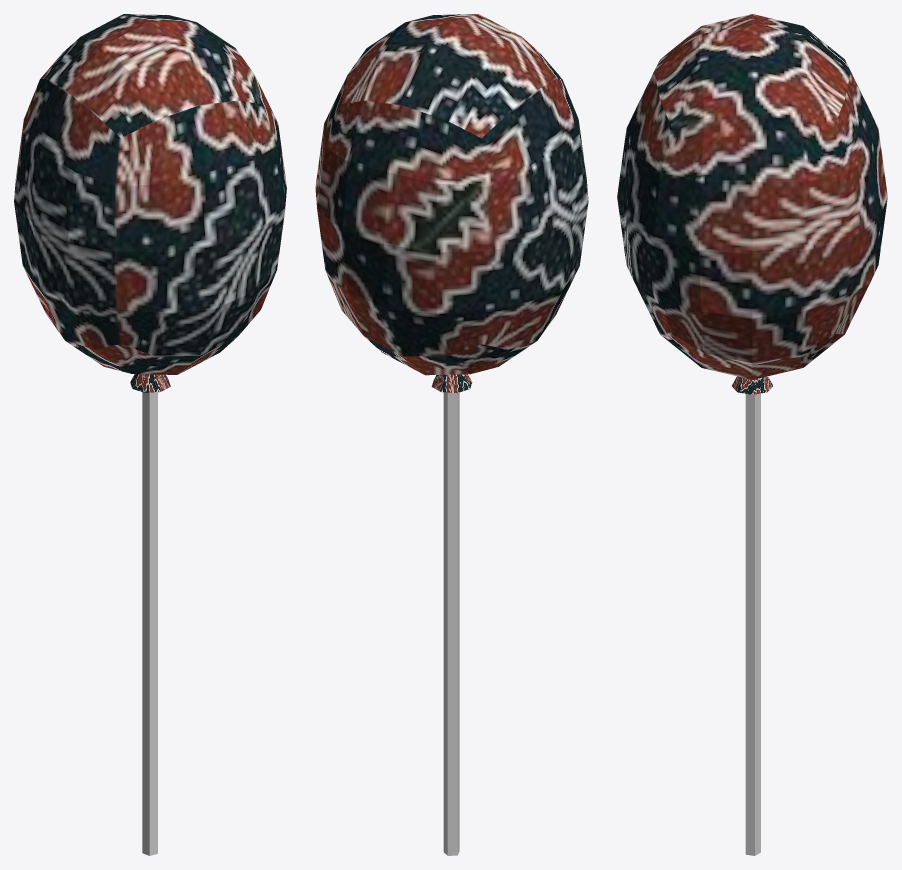
File: Balon Batik Hitam.fbx
3 renders of one model, left to right at view 1: azimuth 30°, elevation 25°; view 2: azimuth 150°, elevation 25°; view 3: azimuth 270°, elevation 25°, orthographic.
Parts seen in each view (by area): view 1: Cylinder.004; view 2: Cylinder.004; view 3: Cylinder.004.
Part boxes in pixels (bbox=[...]): Cylinder.004: bbox=[14, 14, 286, 855]; Cylinder.004: bbox=[315, 14, 588, 855]; Cylinder.004: bbox=[617, 14, 887, 855].
Size of the model in its own units: 41.45 by 140 by 41.45.
Materials: 2 (1 with a texture image).
